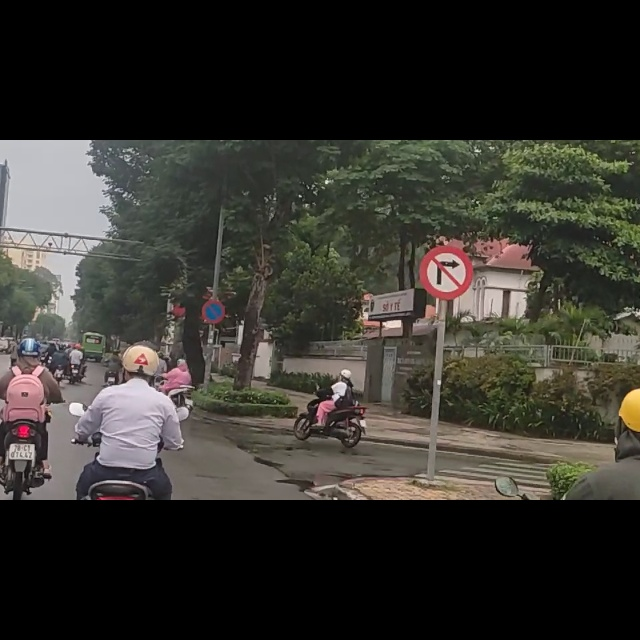bien_cam: (421, 188, 471, 282), (203, 284, 227, 326)
